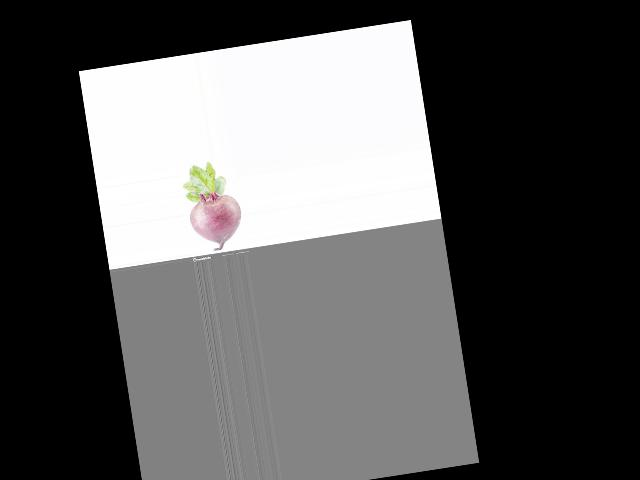beet: (180, 158, 246, 253)
